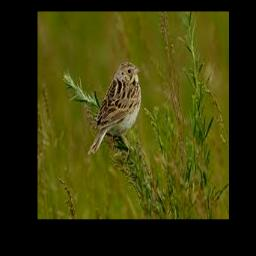Sparrow: (87, 62, 141, 156)
